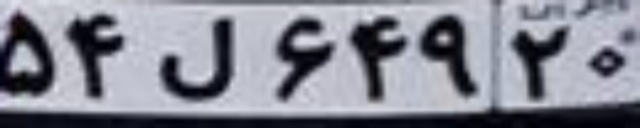0: (583, 46, 626, 79)
2: (509, 24, 573, 101)
4: (347, 15, 410, 103), (66, 14, 123, 99)
5: (0, 11, 54, 97)
6: (267, 16, 337, 102)
9: (419, 14, 477, 97)
lam: (155, 14, 238, 102)
